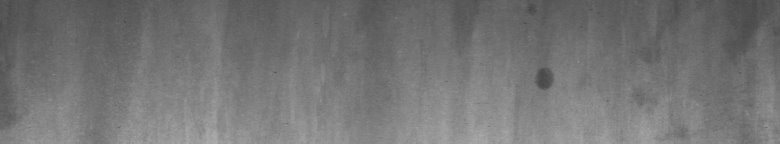fi: (524, 4, 557, 96)
